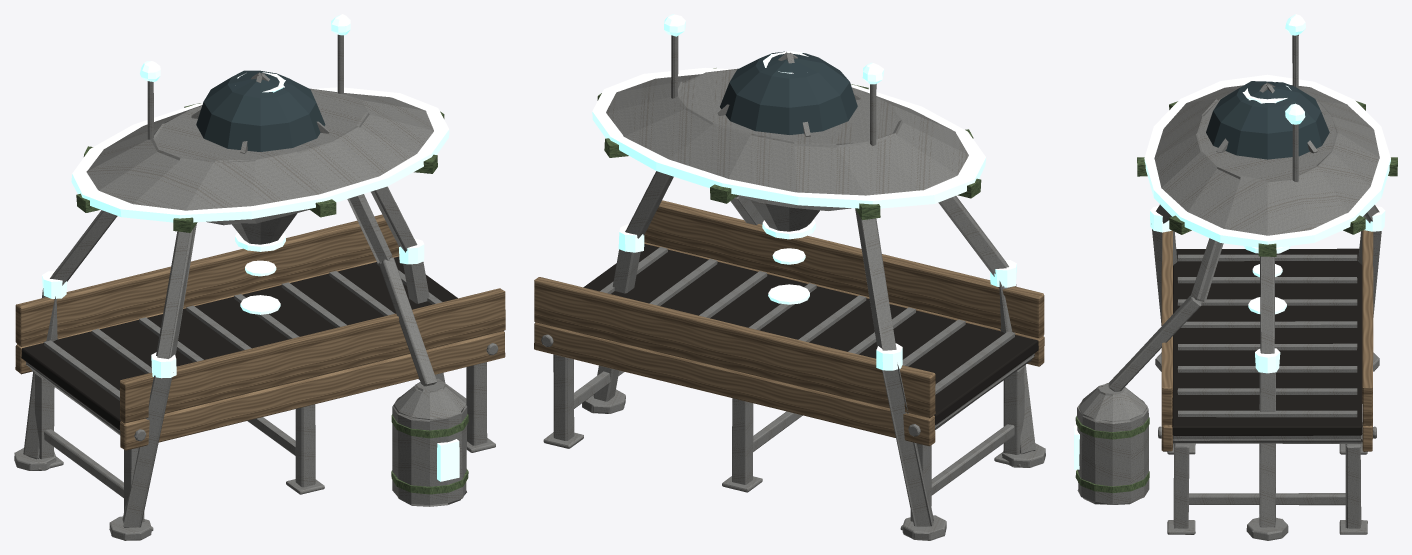
File: alien_collector.glb
3 renders of one model, left to right at view 1: azimuth 30°, elevation 25°; view 2: azimuth 150°, elevation 25°; view 3: azimuth 270°, elevation 25°, orthographic. The views are drawn at different scales.
Visible parts, largest first — view 1: AlienCollector, Belt; view 2: AlienCollector, Belt; view 3: AlienCollector, Belt, Roller2.
Part boxes in pixels (x1=…): AlienCollector: x1=14, y1=14, x2=505, y2=540; Belt: x1=21, y1=256, x2=457, y2=429; AlienCollector: x1=534, y1=14, x2=1045, y2=540; Belt: x1=583, y1=244, x2=1038, y2=424; AlienCollector: x1=1074, y1=14, x2=1397, y2=540; Belt: x1=1172, y1=248, x2=1362, y2=435; Roller2: x1=1173, y1=422, x2=1362, y2=443.
Bounding box in the file's own units: 3.47 × 3.43 × 2.58.
Materials: 6 (3 with a texture image).
